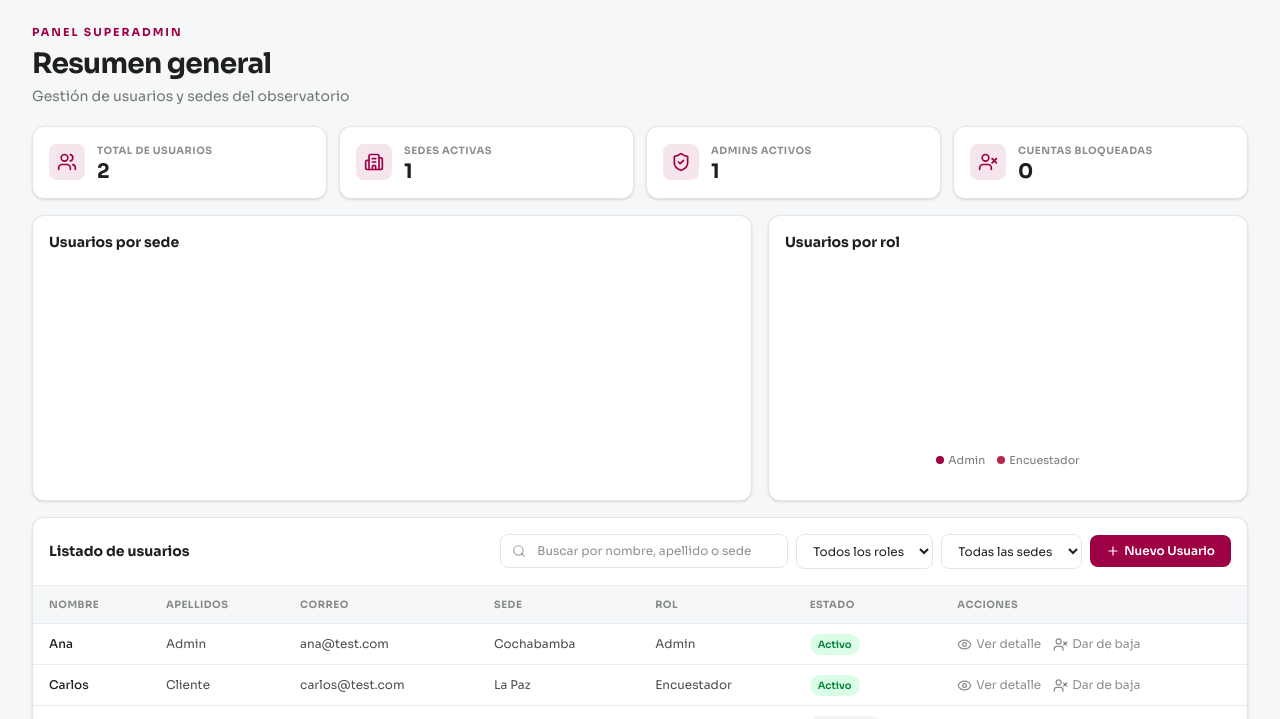
Scenario: UsuariosPage › el select de rol filtra pidiendo al servidor con el rol elegido
Expected: the text "Ana" is shown, [33,624,150,665]
Step 1. Select "Admin" in the dropdown named "Filtrar por rol" → (865, 551), box [796,534,933,569]
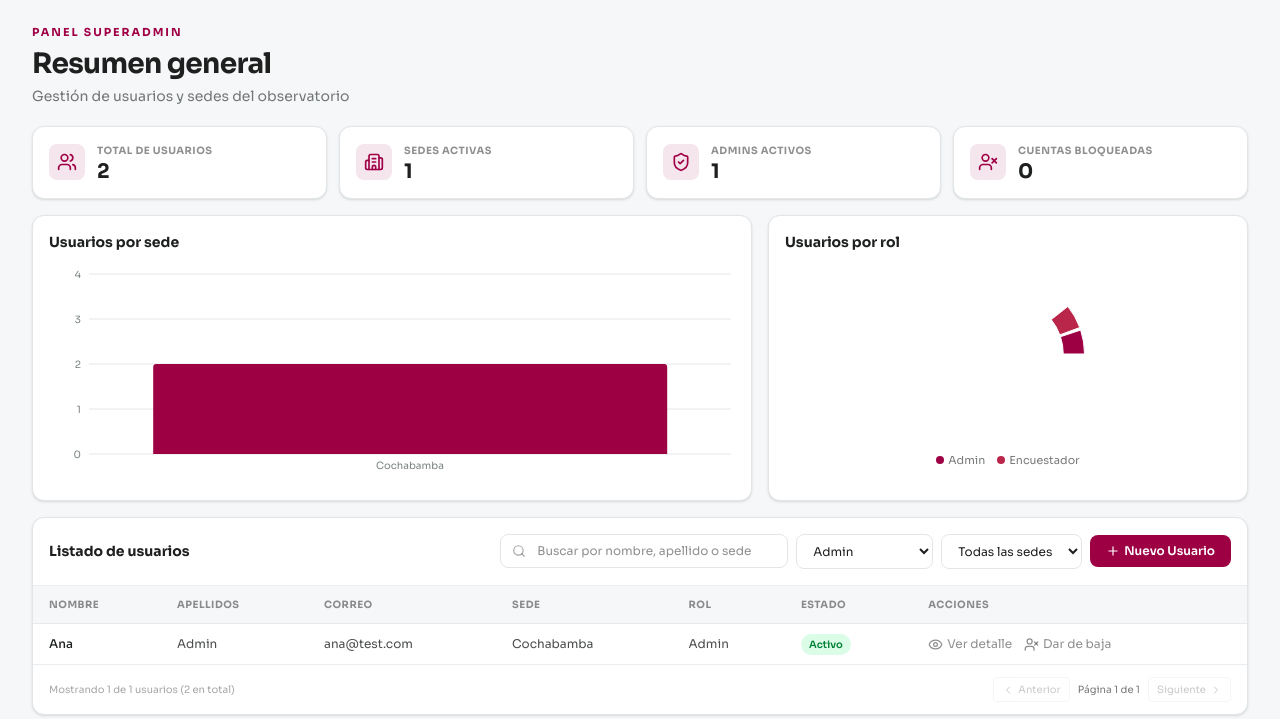
Expected: the text "Ana" is shown, [33,624,161,664]
Expected: the text "Carlos" is gone
